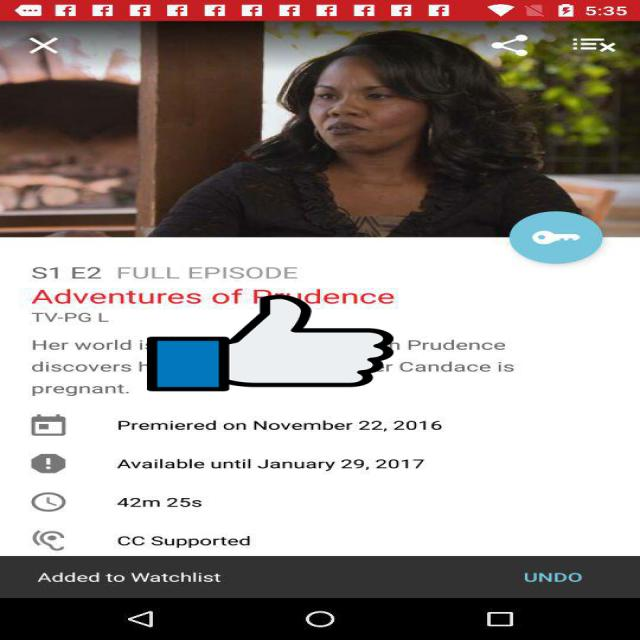privacy zuckering: (147, 293, 393, 393)
